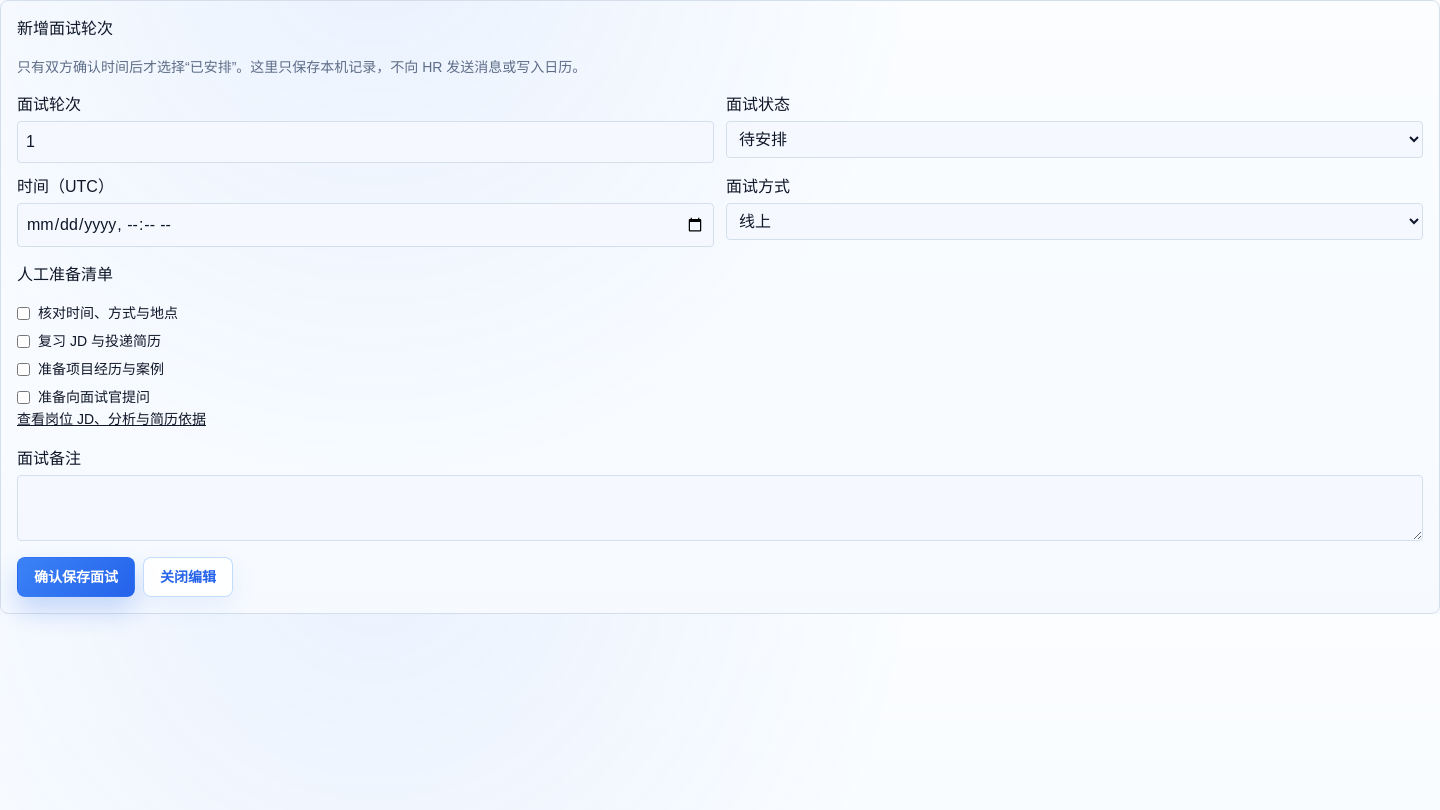
defaults to pending and refuses a scheduled interview without confirmed time
Select "已安排" in the dropdown labelled "面试状态" at (1074, 140), box [726, 121, 1423, 158]
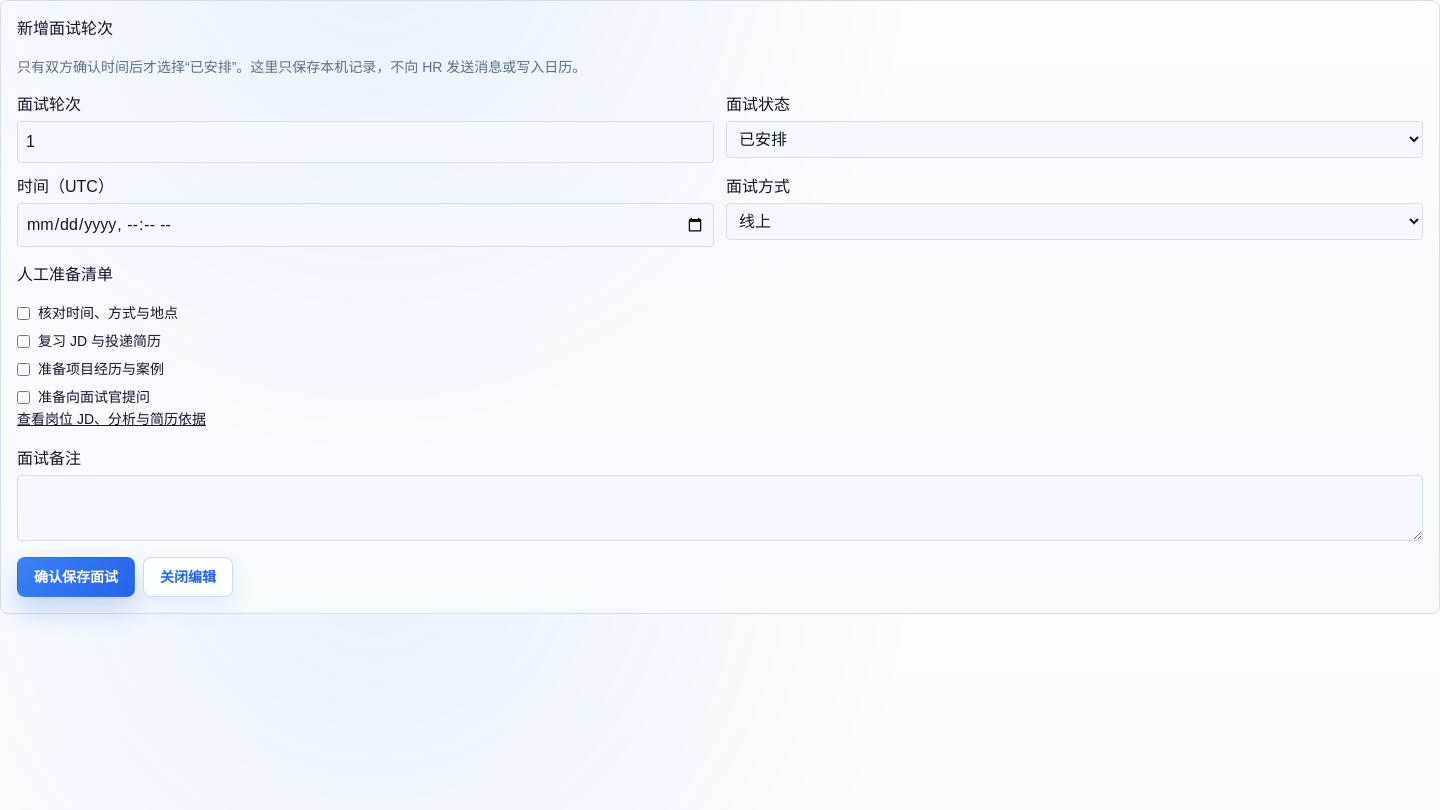
Click the button "确认保存面试" at (76, 577), box [17, 557, 135, 597]
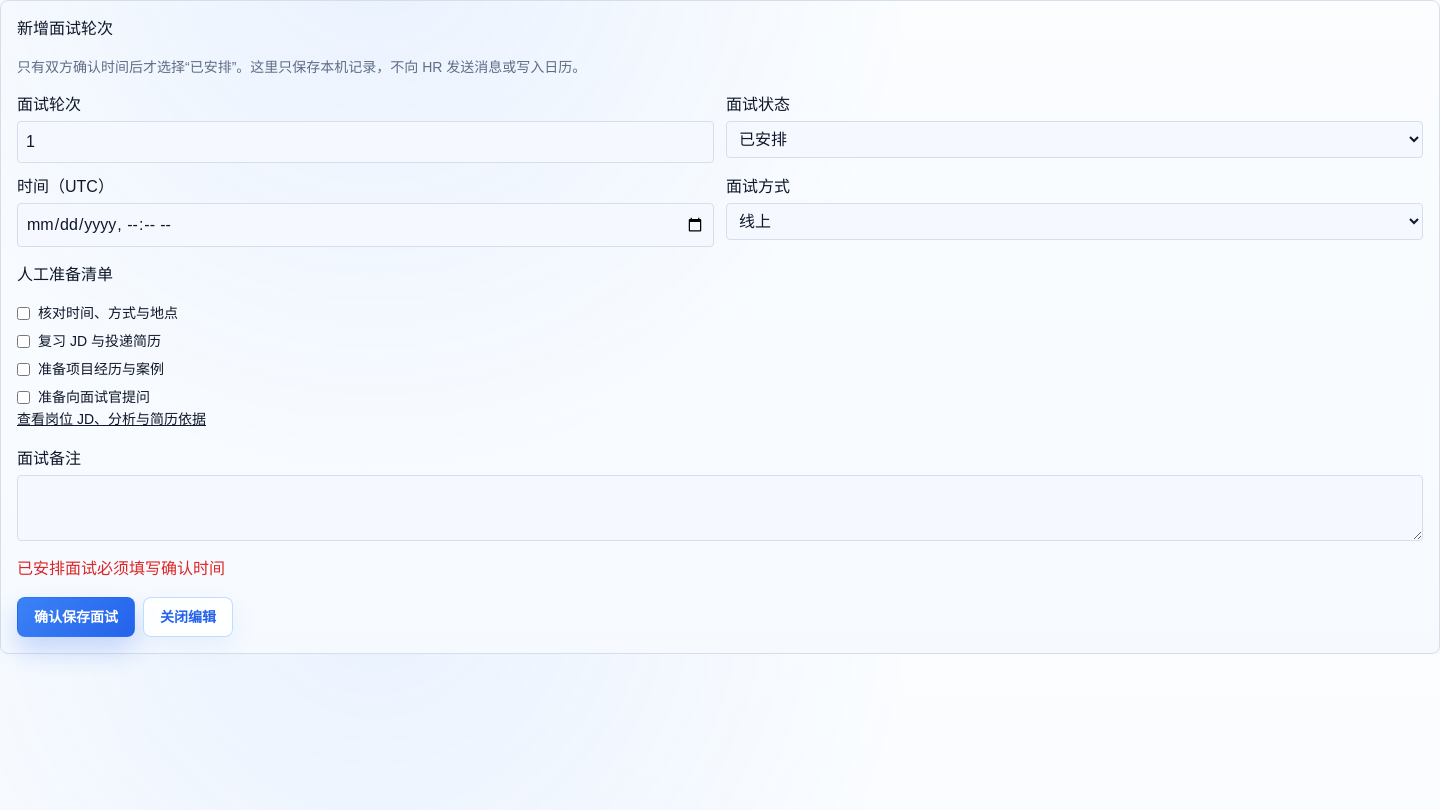
expect the message shows "确认时间": met, box [17, 560, 225, 577]
